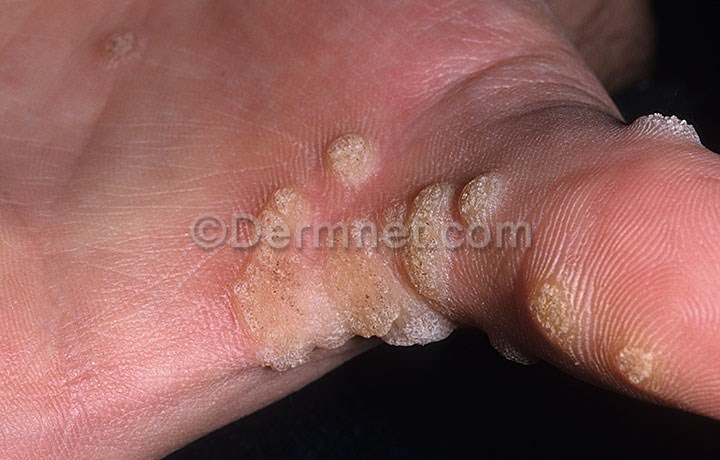Warts: (229, 268, 459, 350), (516, 266, 584, 351), (310, 128, 390, 192), (610, 331, 676, 399), (453, 169, 519, 228), (90, 16, 147, 71)
